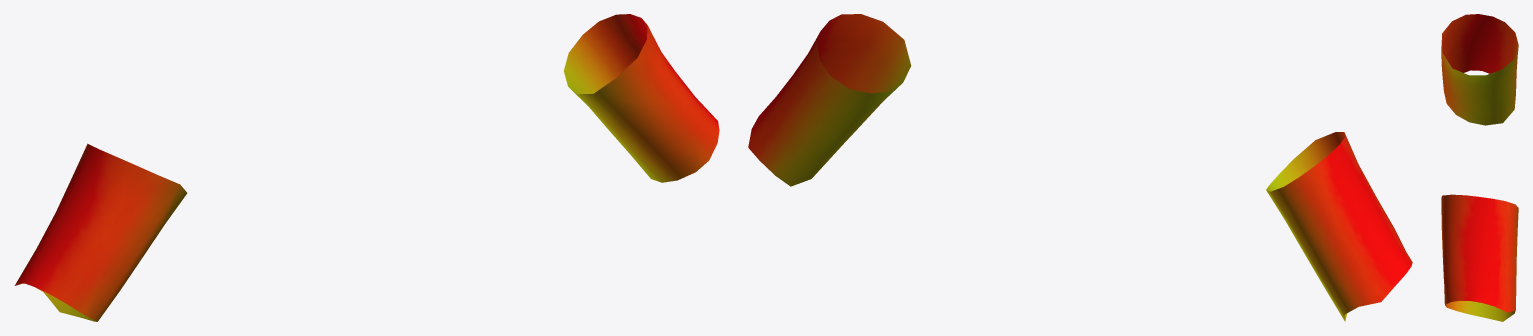
The model's file is upperarms_2184.obj.
3 renders of one model, left to right at view 1: azimuth 30°, elevation 25°; view 2: azimuth 150°, elevation 25°; view 3: azimuth 270°, elevation 25°, orthographic. The views are drawn at different scales.
Visible parts, largest first — view 1: upperarms_0; view 2: upperarms_0; view 3: upperarms_0.
Boxes of the visible parts, box(x1,y1,x2,y2) form: upperarms_0: box(14, 14, 719, 321); upperarms_0: box(748, 14, 1412, 321); upperarms_0: box(1441, 14, 1518, 321).
Size of the model in its own units: 0.5649 by 0.1335 by 0.0797.
1 material, 1 textured.
